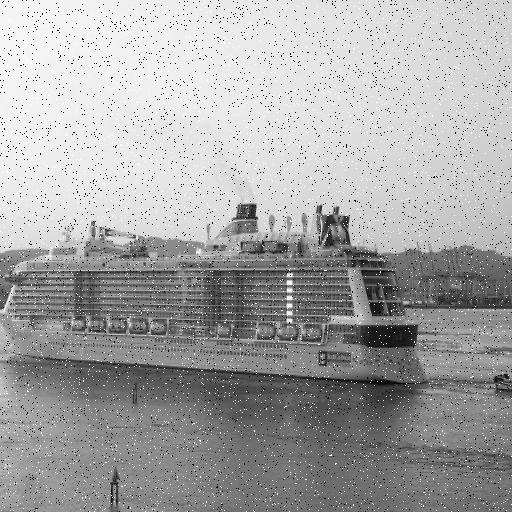cruises: (1, 198, 433, 396)
